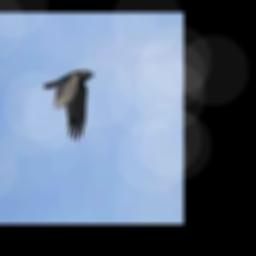Crow: (44, 70, 95, 142)
